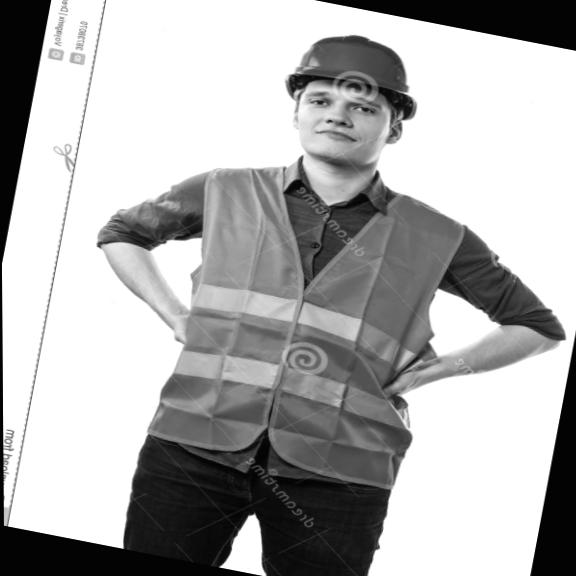safety_vest: (129, 148, 480, 502)
